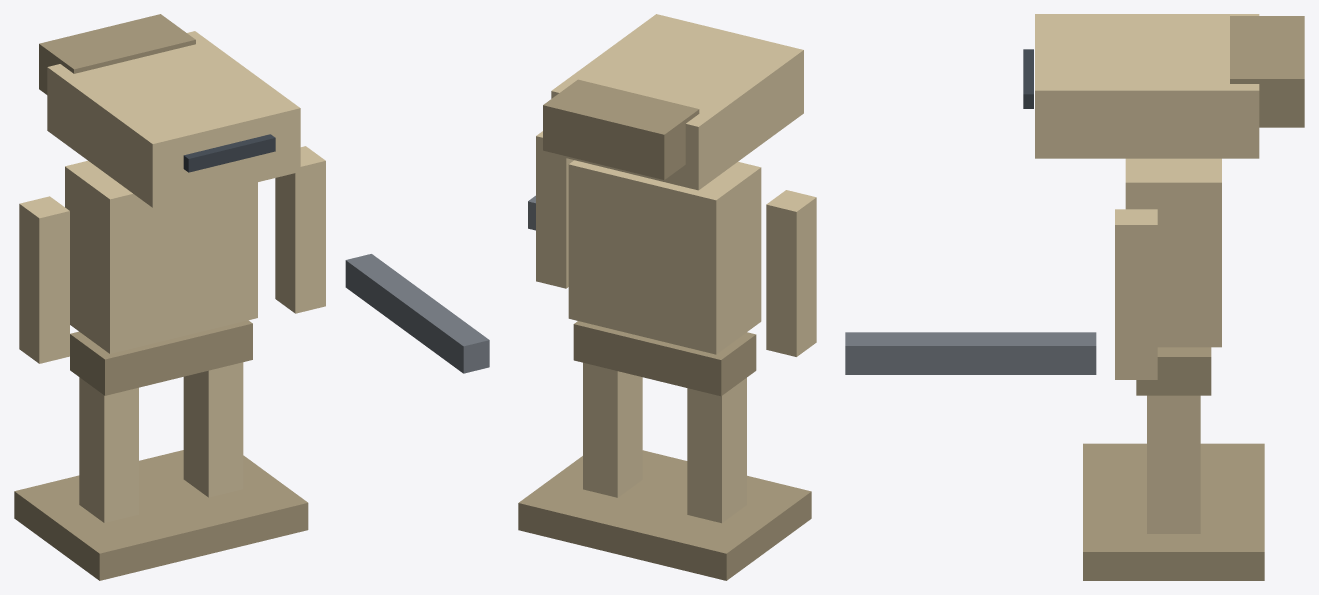
The model's file is cubecraft_b1_droid_01.glb.
3 renders of one model, left to right at view 1: azimuth 30°, elevation 25°; view 2: azimuth 150°, elevation 25°; view 3: azimuth 270°, elevation 25°, orthographic. The views are drawn at different scales.
Parts seen in each view (by area): view 1: torso, long_head, feet, left_arm, pelvis, left_leg, right_leg, right_arm, blaster, back_cranium, eye_bar; view 2: torso, long_head, feet, back_cranium, left_arm, pelvis, left_leg, right_leg, right_arm; view 3: long_head, feet, torso, blaster, right_leg, right_arm, back_cranium, pelvis, eye_bar.
Part boxes in pixels (left/top/right/bottom): torso: left=65, top=161, right=257, bottom=353; long_head: left=47, top=31, right=300, bottom=207; feet: left=14, top=450, right=308, bottom=580; left_arm: left=19, top=196, right=69, bottom=363; pelvis: left=70, top=320, right=252, bottom=395; left_leg: left=79, top=377, right=138, bottom=522; right_leg: left=183, top=362, right=243, bottom=497; right_arm: left=275, top=146, right=325, bottom=313; blaster: left=345, top=254, right=489, bottom=373; back_cranium: left=39, top=14, right=195, bottom=94; eye_bar: left=183, top=134, right=275, bottom=172; torso: left=568, top=160, right=761, bottom=354; long_head: left=551, top=14, right=803, bottom=190; feet: left=518, top=450, right=811, bottom=580; back_cranium: left=543, top=79, right=699, bottom=179; left_arm: left=766, top=190, right=816, bottom=356; pelvis: left=573, top=321, right=756, bottom=396; left_leg: left=687, top=378, right=746, bottom=523; right_leg: left=583, top=362, right=642, bottom=497; right_arm: left=536, top=131, right=573, bottom=288; long_head: left=1035, top=14, right=1259, bottom=158; feet: left=1083, top=443, right=1264, bottom=580; torso: left=1125, top=158, right=1221, bottom=347; blaster: left=845, top=332, right=1096, bottom=374; right_leg: left=1147, top=395, right=1200, bottom=533; right_arm: left=1115, top=209, right=1157, bottom=379; back_cranium: left=1230, top=16, right=1304, bottom=127; pelvis: left=1136, top=347, right=1211, bottom=395; eye_bar: left=1023, top=49, right=1033, bottom=108.
Size of the model in its own units: 7.15 by 9.9 by 8.6.
